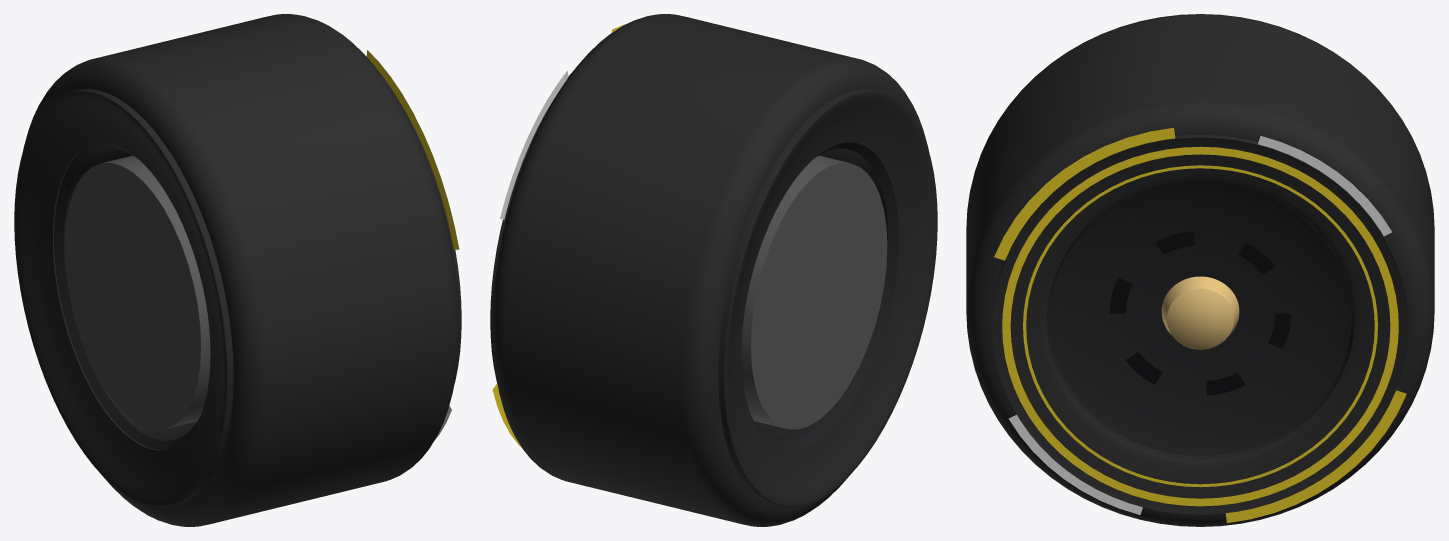
The model's file is f1_2025_wheel_rear.glb.
The picture shows the model from 3 angles, left to right: view 1: azimuth 30°, elevation 25°; view 2: azimuth 150°, elevation 25°; view 3: azimuth 270°, elevation 25°; orthographic projection. The views are drawn at different scales.
Visible parts, largest first — view 1: wheel_rear_Tyre, wheel_rear_Brake, wheel_rear_Rim, wheel_rear_TyreStripe; view 2: wheel_rear_Tyre, wheel_rear_Brake, wheel_rear_Rim, wheel_rear_TyreText; view 3: wheel_rear_Tyre, wheel_rear_Rim, wheel_rear_TyreStripe, wheel_rear_RimGold, wheel_rear_Inlet, wheel_rear_TyreText.
Boxes of the visible parts, <box> form: wheel_rear_Tyre: <box>14,14,461,526</box>; wheel_rear_Brake: <box>64,155,210,429</box>; wheel_rear_Rim: <box>54,142,199,450</box>; wheel_rear_TyreStripe: <box>366,50,459,249</box>; wheel_rear_Tyre: <box>490,14,937,526</box>; wheel_rear_Brake: <box>741,155,887,429</box>; wheel_rear_Rim: <box>752,142,897,450</box>; wheel_rear_TyreText: <box>500,70,568,219</box>; wheel_rear_Tyre: <box>966,14,1434,526</box>; wheel_rear_Rim: <box>1046,181,1354,459</box>; wheel_rear_TyreStripe: <box>994,127,1406,522</box>; wheel_rear_RimGold: <box>1161,276,1239,349</box>; wheel_rear_Inlet: <box>1109,231,1291,395</box>; wheel_rear_TyreText: <box>1008,135,1391,514</box>.
Size of the model in its own units: 0.408 by 0.72 by 0.72.
